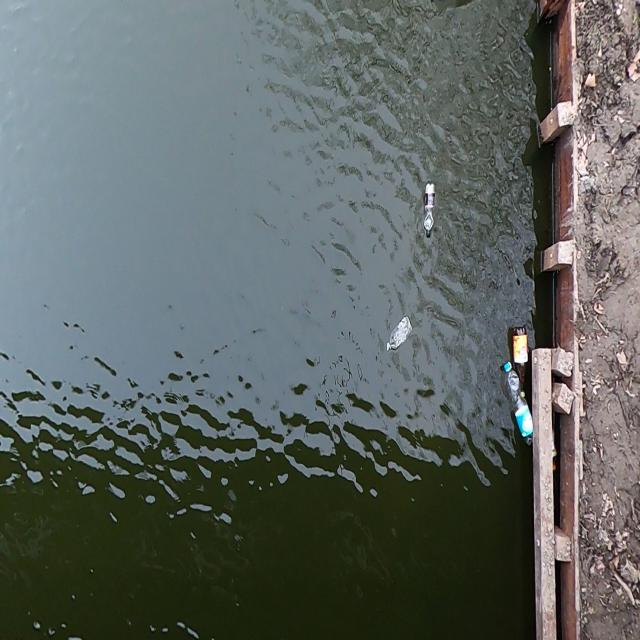Bouteille plastique: (383, 310, 416, 361), (421, 178, 441, 237)
